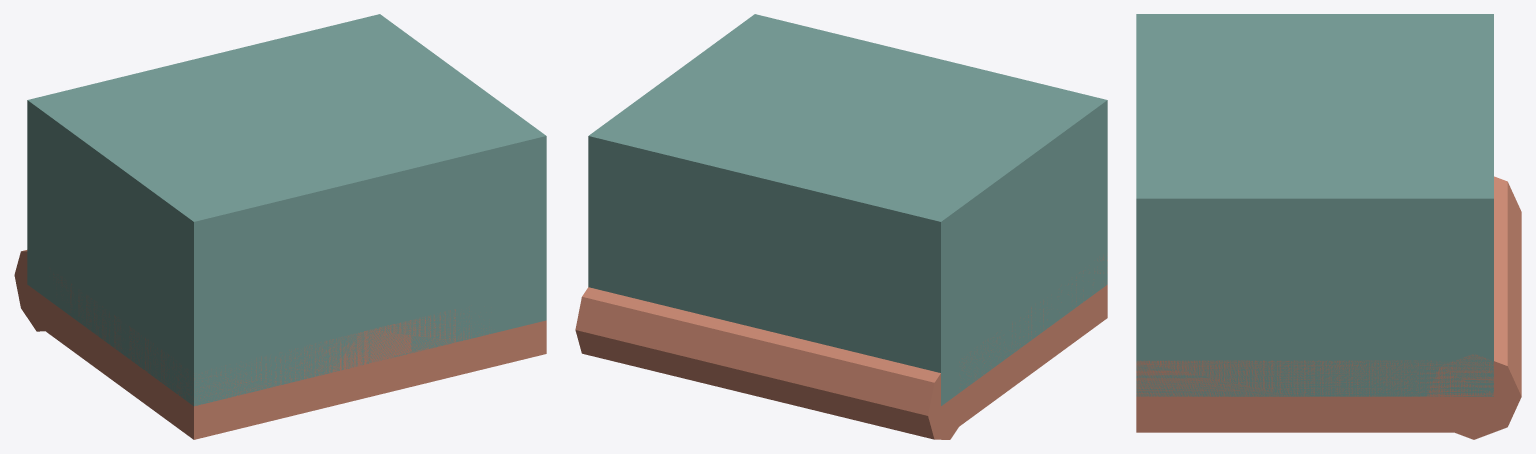
The model's file is TH_Tile_12.fbx.
3 views of the same model, side by side, from view 1: azimuth 30°, elevation 25°; view 2: azimuth 150°, elevation 25°; view 3: azimuth 270°, elevation 25° (orthographic). The views are drawn at different scales.
Parts seen in each view (by area): view 1: TH_Tile_12; view 2: TH_Tile_12; view 3: TH_Tile_12.
Part boxes in pixels (<box>): TH_Tile_12: <box>14,14,546,439</box>; TH_Tile_12: <box>575,14,1107,439</box>; TH_Tile_12: <box>1136,14,1521,439</box>.
Size of the model in its own units: 1.1 by 0.67 by 0.97.
